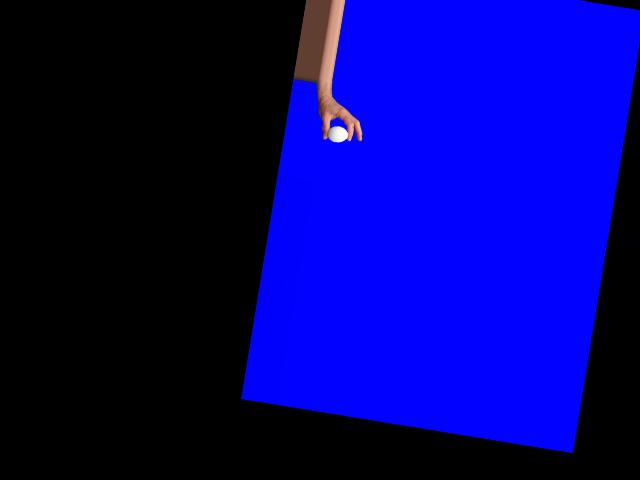egg: (326, 124, 349, 144)
